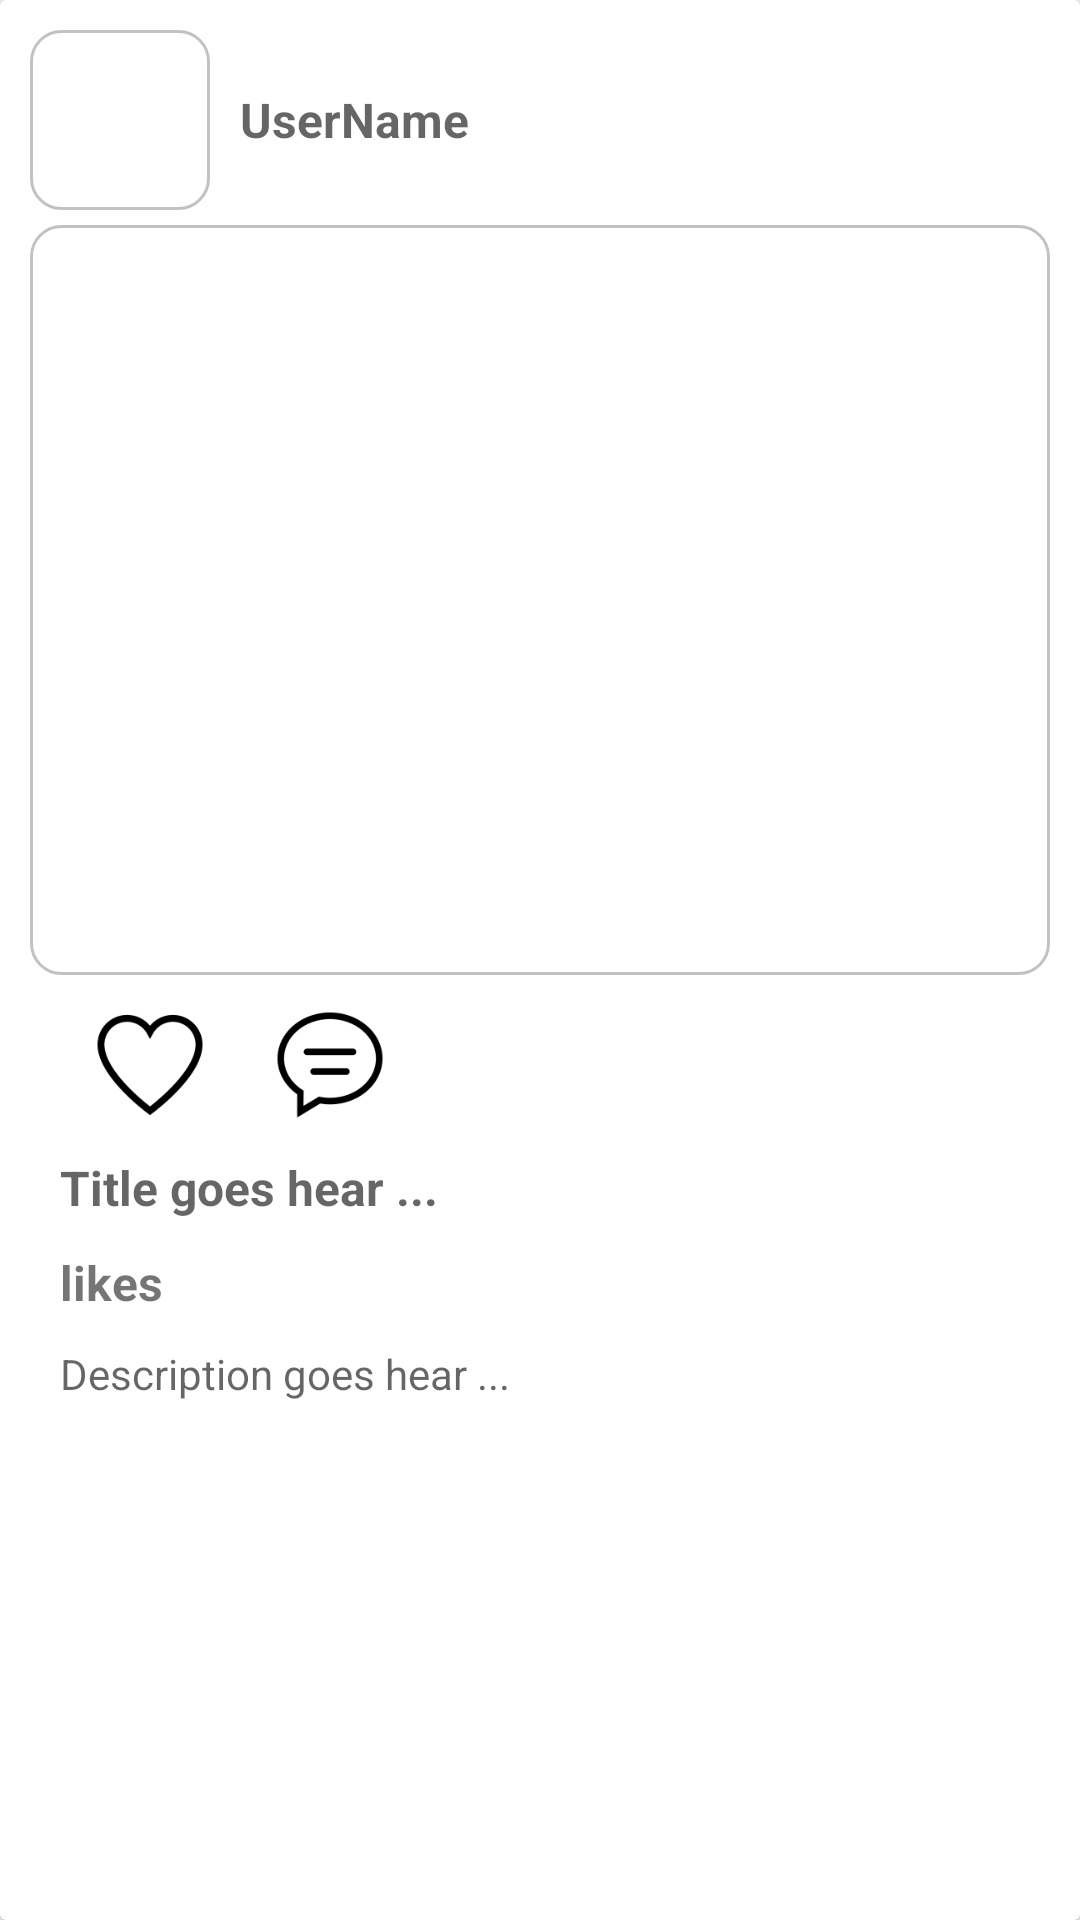

Icon bounding boxes for this 1080x1920 phone screenshot, format region(x1, y1, x2, y2):
simple comment: region(277, 1012, 383, 1118)
simple heart: region(97, 1015, 203, 1115)
